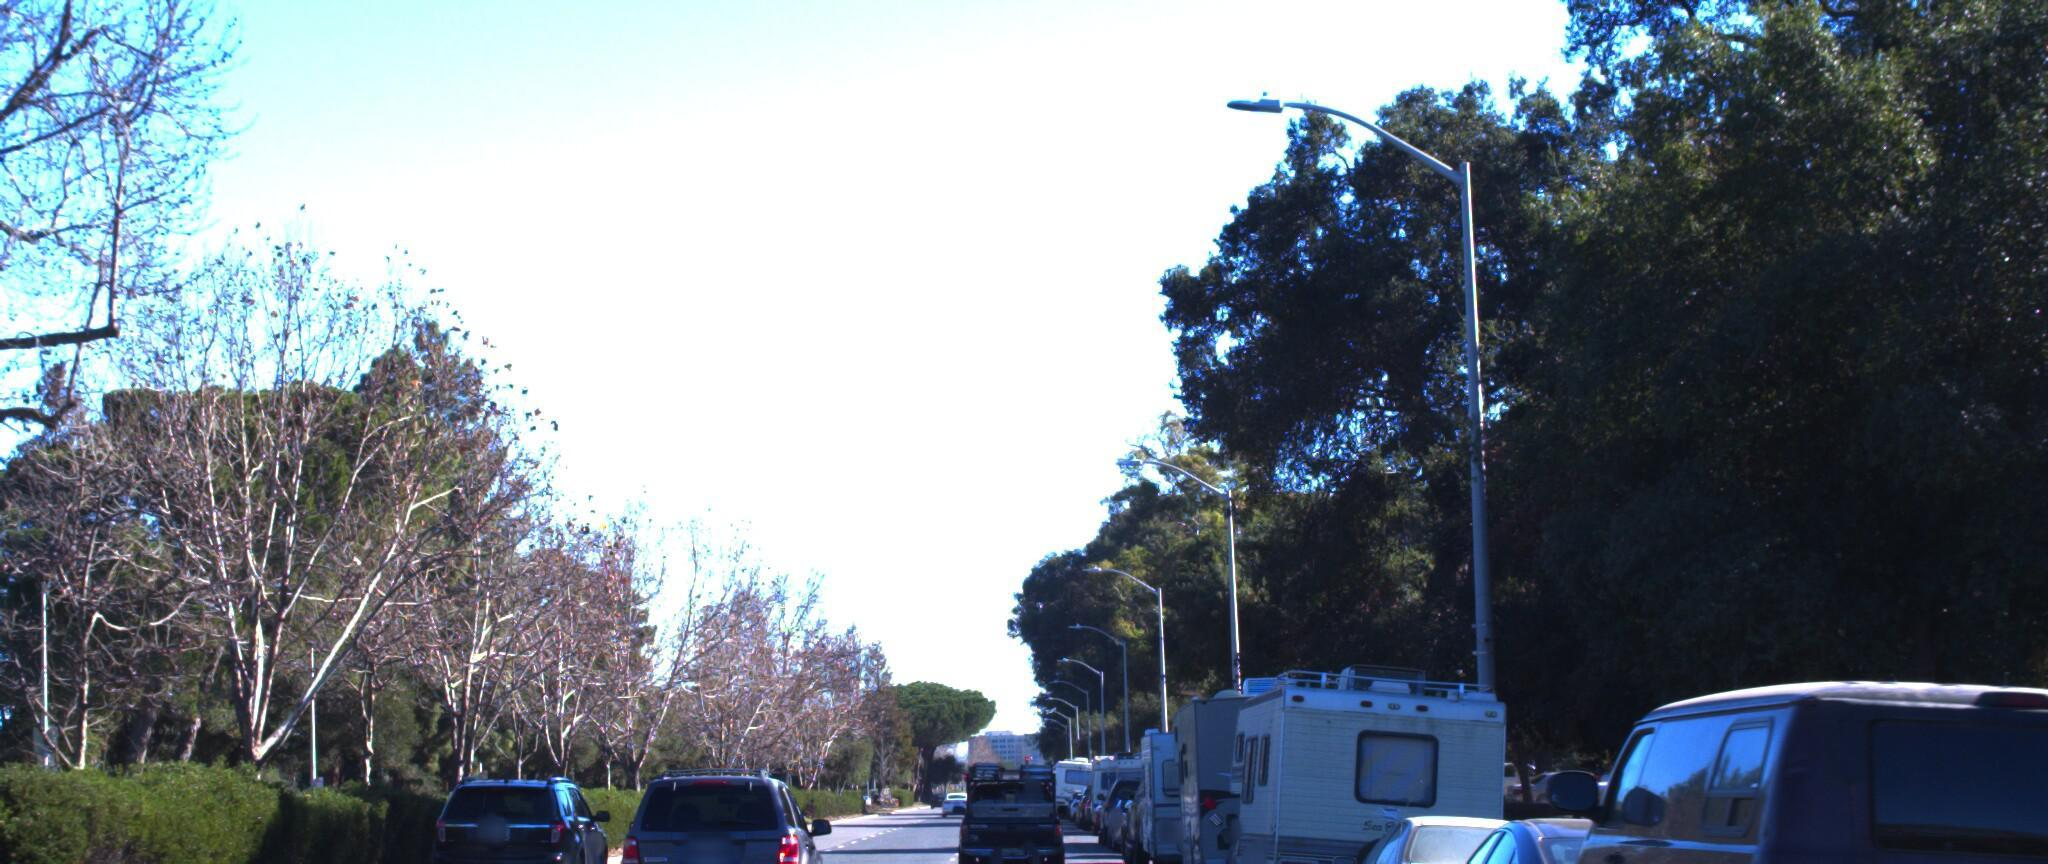car: (1506, 643, 2048, 864), (1383, 797, 1836, 864), (586, 749, 827, 864), (1300, 803, 1637, 864), (406, 769, 613, 864), (929, 743, 1068, 864), (1802, 796, 2048, 864)
other_vehicle: (1213, 643, 1512, 864), (1155, 656, 1384, 864), (1125, 701, 1306, 864)
